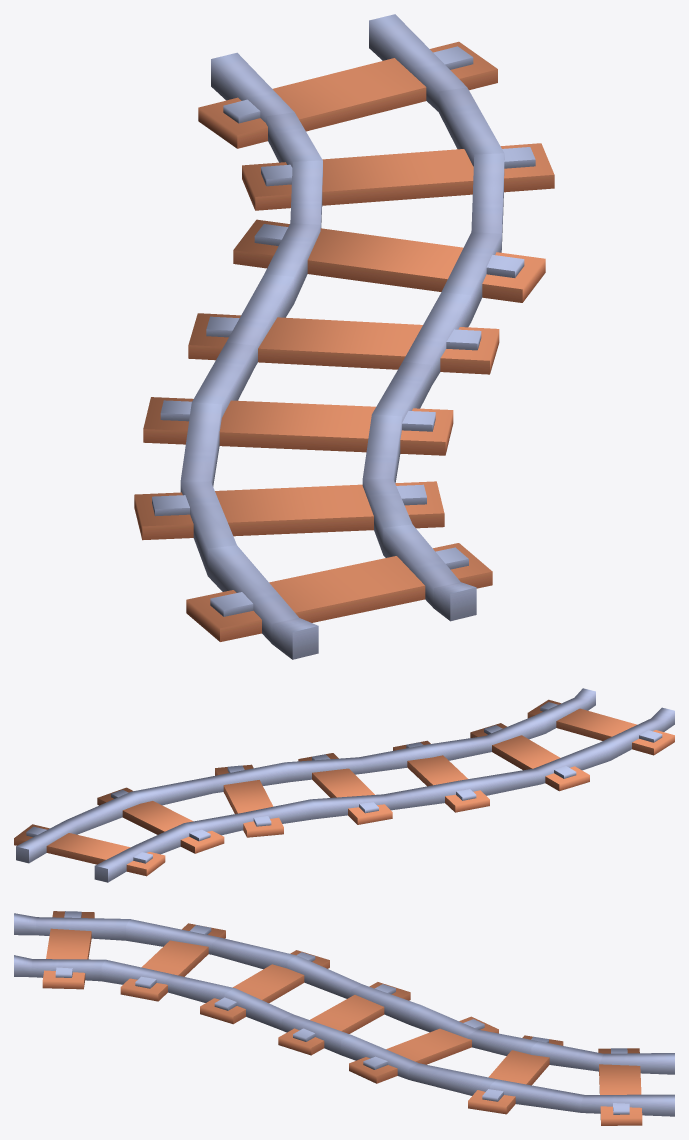
The model's file is kenney-train-railroad-damaged-curve.glb.
The picture shows the model from 3 angles, top to bottom: view 1: azimuth 30°, elevation 25°; view 2: azimuth 150°, elevation 25°; view 3: azimuth 270°, elevation 25°; orthographic projection. The views are drawn at different scales.
Visible parts, largest first — view 1: railroad-damaged-curve; view 2: railroad-damaged-curve; view 3: railroad-damaged-curve.
Part boxes in pixels (box(x1,y1,x2,y2)): railroad-damaged-curve: box(134, 14, 554, 659); railroad-damaged-curve: box(14, 688, 674, 882); railroad-damaged-curve: box(14, 911, 674, 1125).
Bounding box in the file's own units: 2.97 × 0.1001 × 4.
1 material, 1 textured.
